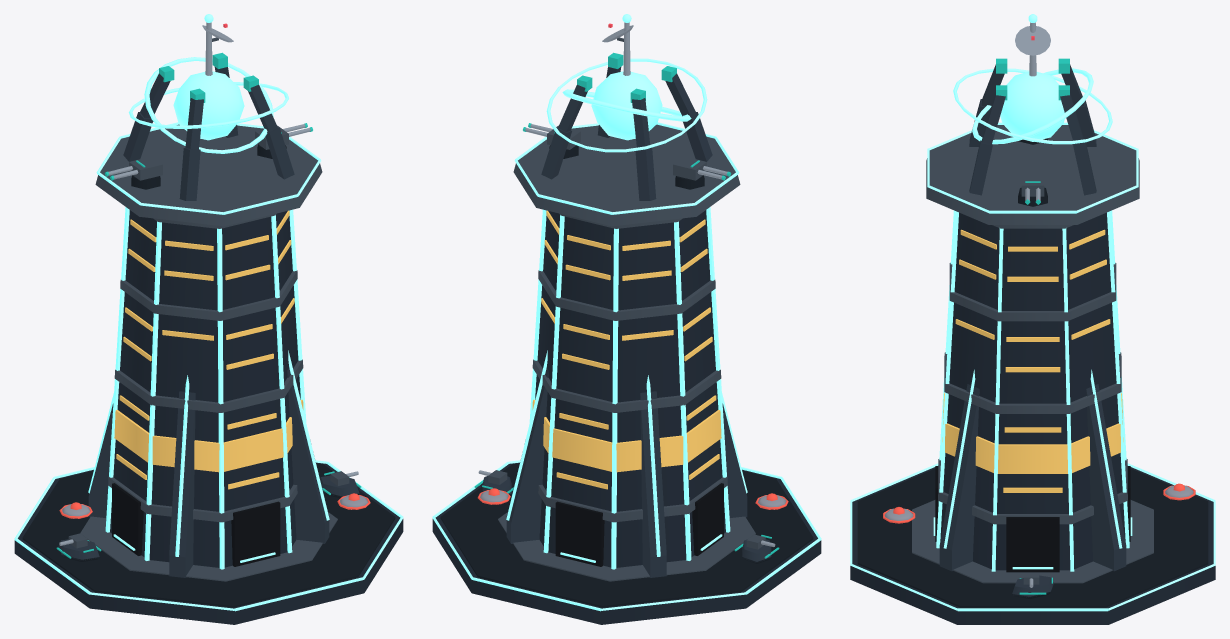
The picture shows the model from 3 angles, left to right: view 1: azimuth 30°, elevation 25°; view 2: azimuth 150°, elevation 25°; view 3: azimuth 270°, elevation 25°; orthographic projection.
Parts seen in each view (by area): view 1: body, neon; view 2: body, neon; view 3: body, neon.
Boxes of the visible parts, bbox=[...] form: body: bbox=[14, 22, 403, 624]; neon: bbox=[14, 14, 403, 611]; body: bbox=[432, 22, 821, 624]; neon: bbox=[432, 14, 821, 611]; body: bbox=[850, 22, 1215, 624]; neon: bbox=[850, 14, 1215, 611].
Bounding box in the file's own units: 11.71 × 18.85 × 11.71.
Materials: 2 (1 with a texture image).
